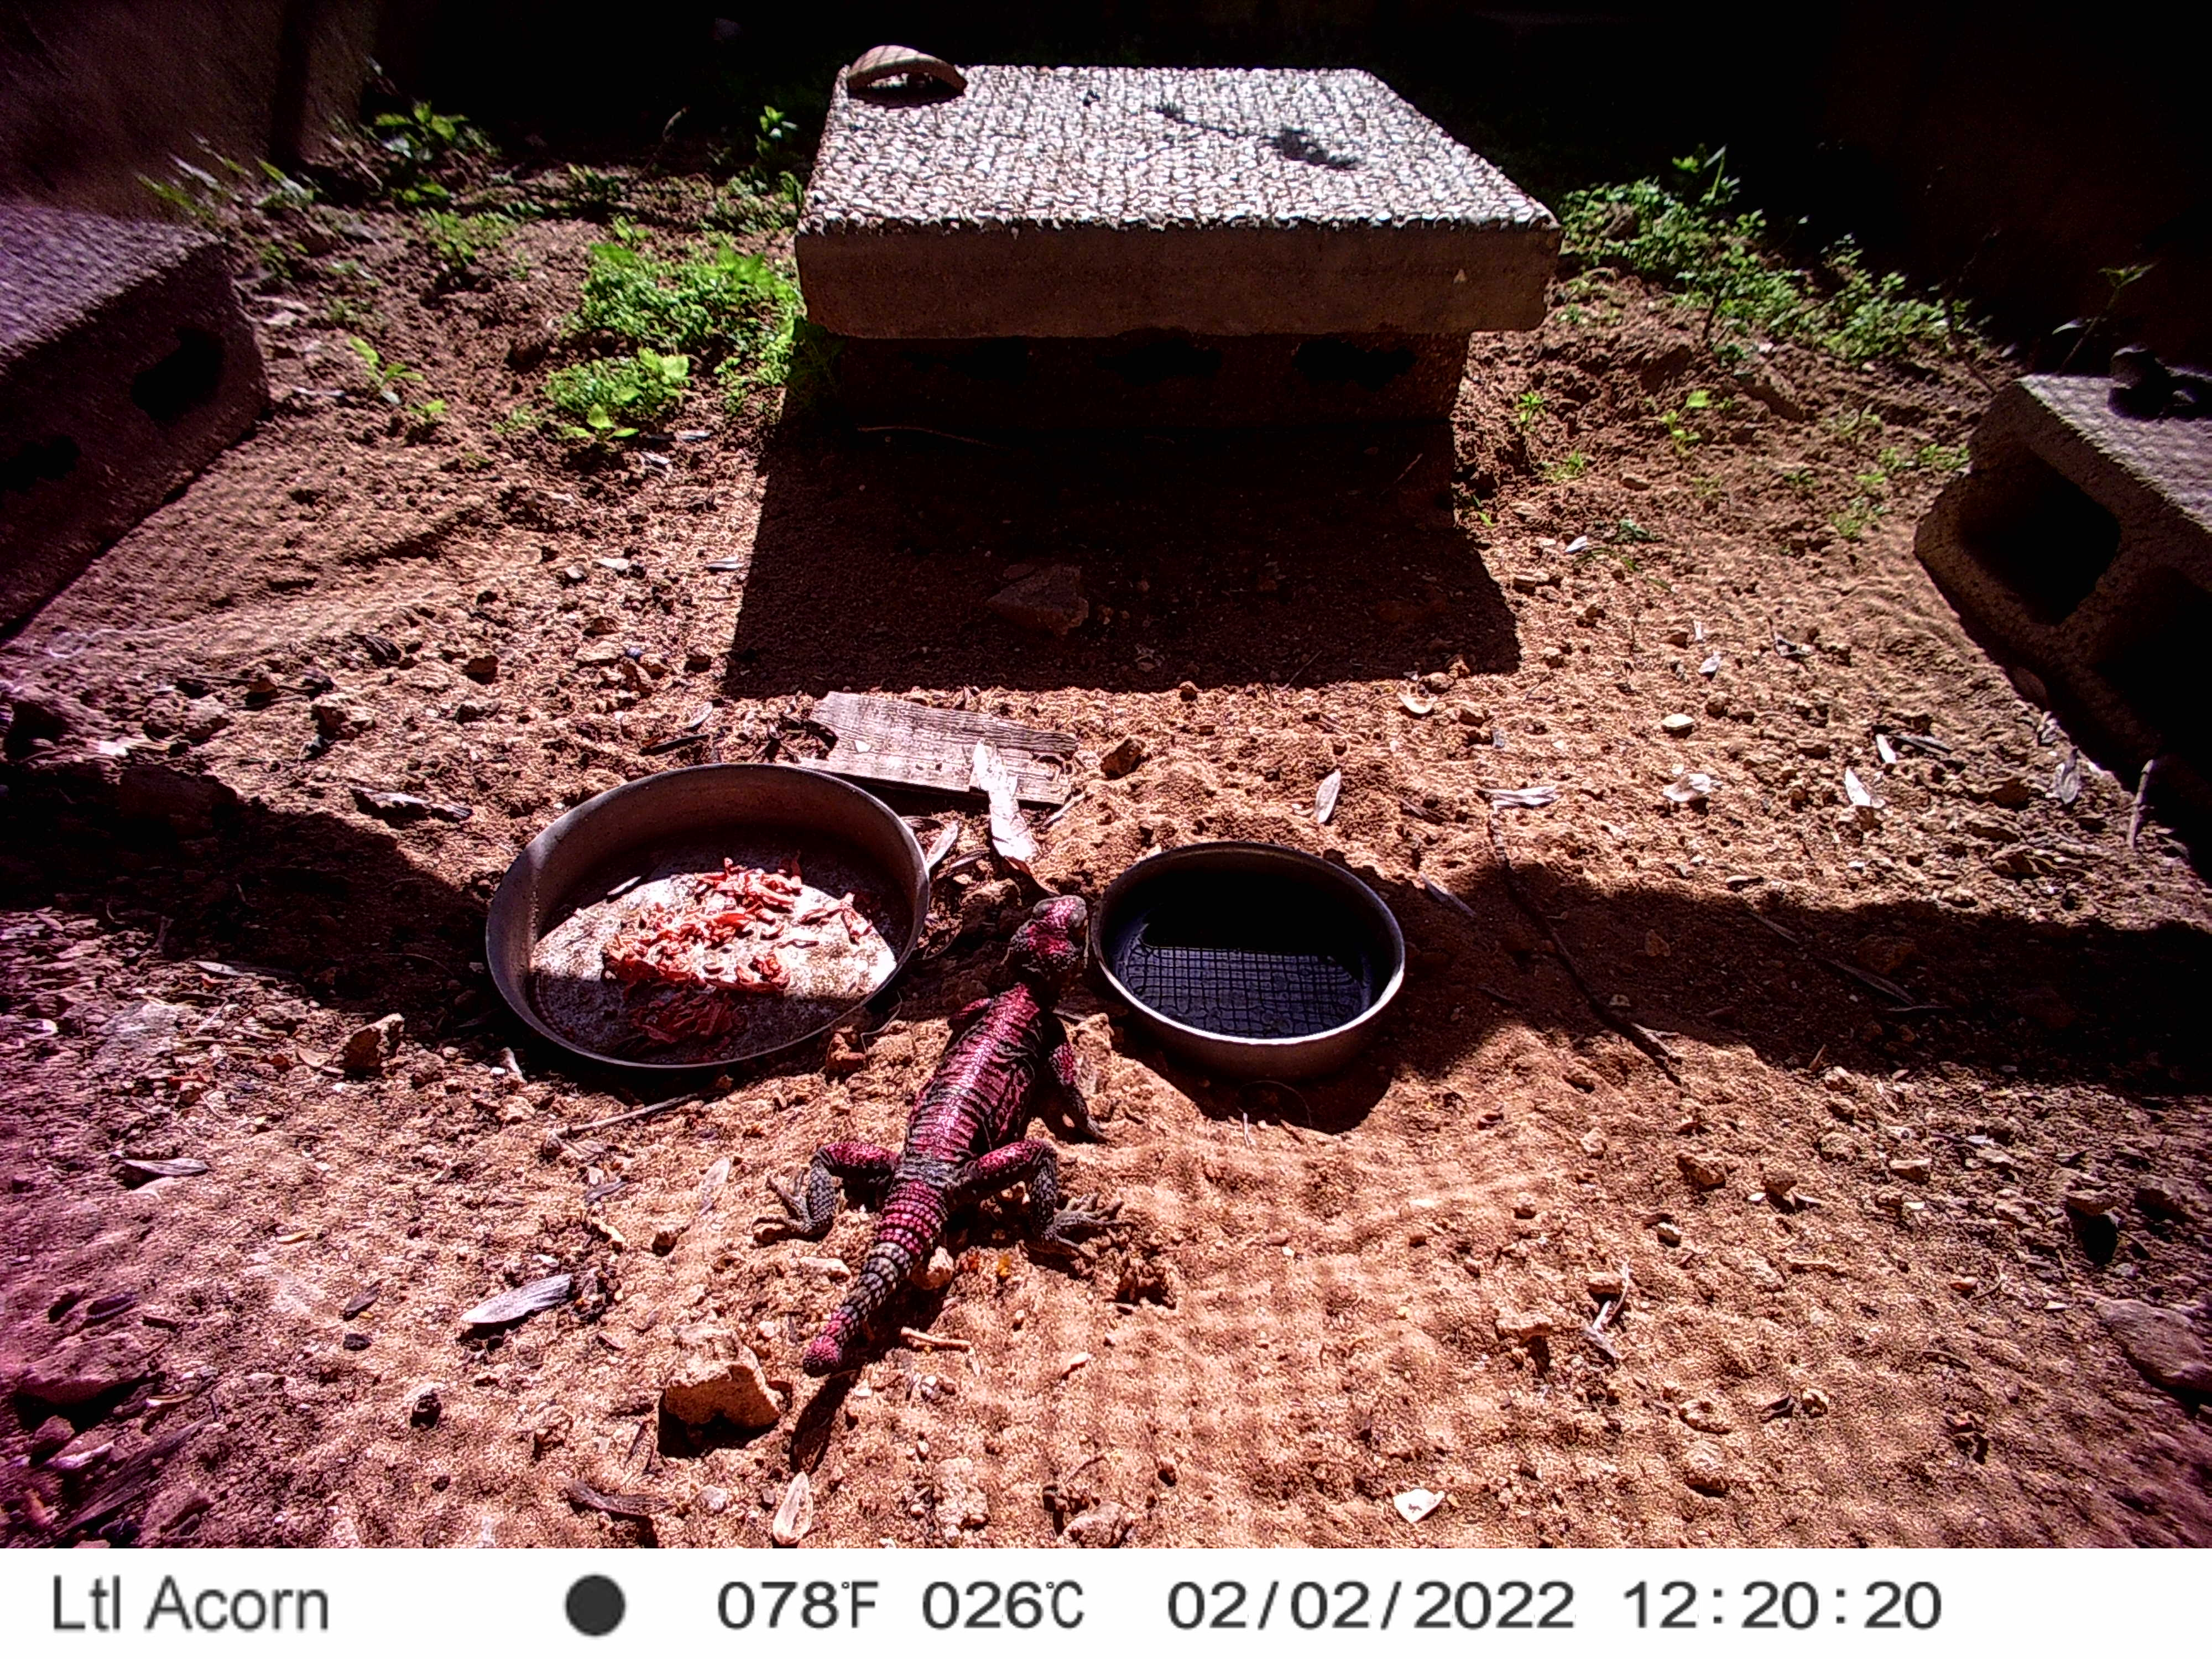lizard: (775, 89, 953, 190), (1306, 0, 1453, 30)
